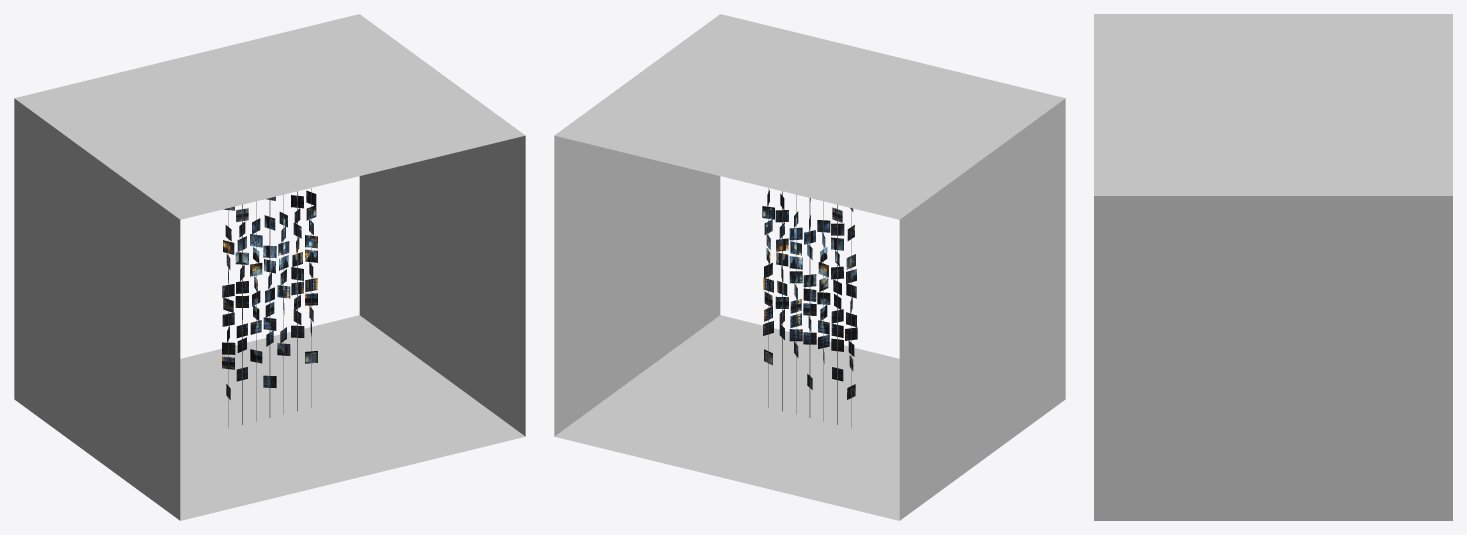
Rendered from vitrazh_scene.glb.
3 renders of one model, left to right at view 1: azimuth 30°, elevation 25°; view 2: azimuth 150°, elevation 25°; view 3: azimuth 270°, elevation 25°, orthographic. The views are drawn at different scales.
Parts seen in each view (by area): view 1: Gallery_Room; view 2: Gallery_Room; view 3: Gallery_Room.
Part boxes in pixels (x1,y1,x2,y2): Gallery_Room: (14,14,525,520); Gallery_Room: (554,14,1065,520); Gallery_Room: (1094,14,1452,520).
Size of the model in its own units: 12 by 10 by 10.
Materials: 79 (77 with a texture image).
